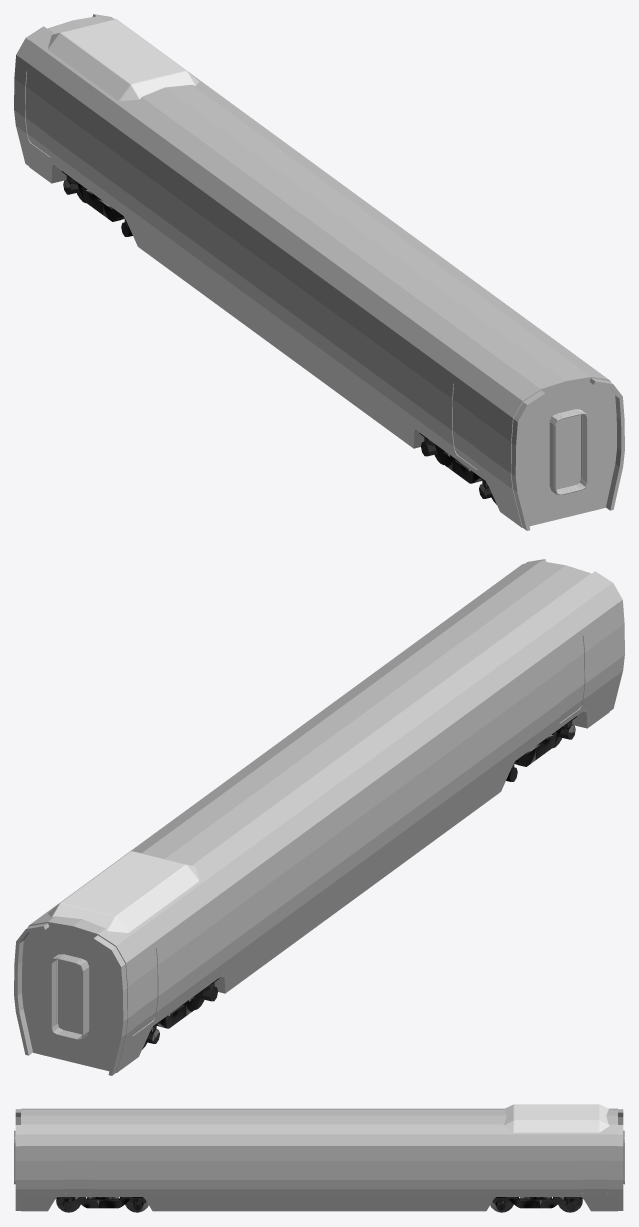
The model's file is crh1aaa3.obj.
The picture shows the model from 3 angles, top to bottom: view 1: azimuth 30°, elevation 25°; view 2: azimuth 150°, elevation 25°; view 3: azimuth 270°, elevation 25°; orthographic projection. The views are drawn at different scales.
Visible parts, largest first — view 1: body, under, kt, lj, bogie; view 2: body, under, kt, lj, bogie; view 3: body, under, kt, bogie, lj.
Boxes of the visible parts, <box> form: body: <box>17,16,616,503</box>; under: <box>23,142,611,527</box>; kt: <box>48,19,199,101</box>; lj: <box>14,14,624,530</box>; bogie: <box>61,171,496,504</box>; body: <box>22,561,621,1048</box>; under: <box>27,687,615,1072</box>; kt: <box>48,851,199,932</box>; lj: <box>14,559,624,1075</box>; bogie: <box>142,716,577,1049</box>; body: <box>21,1108,617,1196</box>; under: <box>21,1197,617,1211</box>; kt: <box>503,1104,609,1132</box>; bogie: <box>56,1197,582,1212</box>; lj: <box>14,1109,624,1210</box>.
Bounding box in the file's own units: 32.33 × 42.61 × 256.
